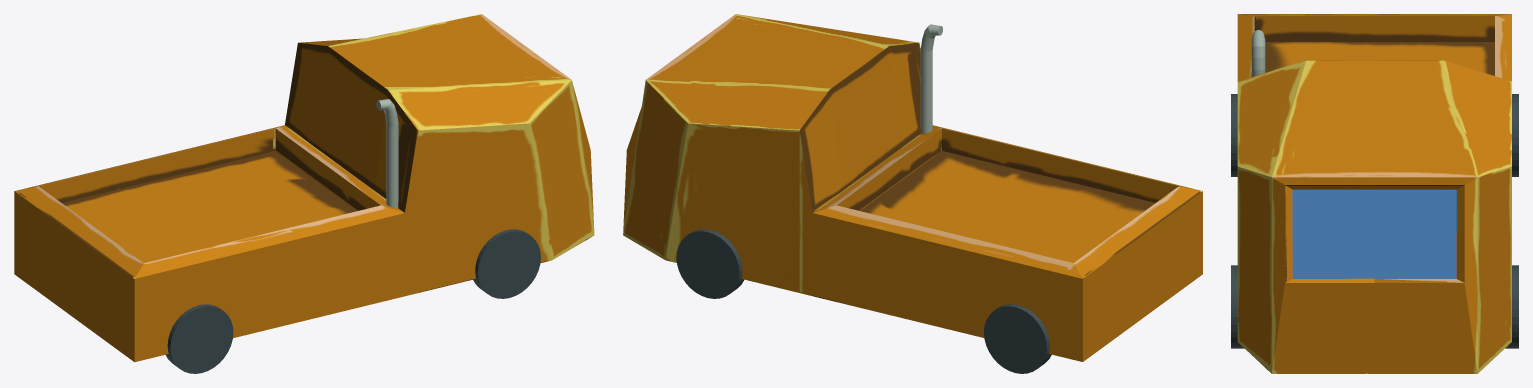
Rendered from testTruck.gltf.
3 renders of one model, left to right at view 1: azimuth 30°, elevation 25°; view 2: azimuth 150°, elevation 25°; view 3: azimuth 270°, elevation 25°, orthographic. The views are drawn at different scales.
Visible parts, largest first — view 1: Cube.004, Cylinder.001, Cylinder.002, Cylinder; view 2: Cube.004, Cylinder.004, Cylinder.003, Cylinder; view 3: Cube.004, Cylinder, Cylinder.002, Cylinder.004, Cylinder.001, Cylinder.003.
Part boxes in pixels (bbox=[...]): Cube.004: bbox=[14, 14, 594, 362]; Cylinder.001: bbox=[165, 304, 233, 373]; Cylinder.002: bbox=[473, 229, 540, 298]; Cylinder: bbox=[376, 99, 398, 208]; Cube.004: bbox=[623, 14, 1202, 361]; Cylinder.004: bbox=[676, 229, 743, 298]; Cylinder.003: bbox=[984, 304, 1051, 373]; Cylinder: bbox=[920, 24, 942, 133]; Cube.004: bbox=[1237, 14, 1511, 373]; Cylinder: bbox=[1251, 30, 1265, 76]; Cylinder.002: bbox=[1231, 265, 1244, 348]; Cylinder.004: bbox=[1505, 265, 1518, 348]; Cylinder.001: bbox=[1231, 94, 1237, 176]; Cylinder.003: bbox=[1512, 94, 1518, 176].
Size of the model in its own units: 1.3 by 0.5653 by 0.5934.
3 materials, 1 textured.
